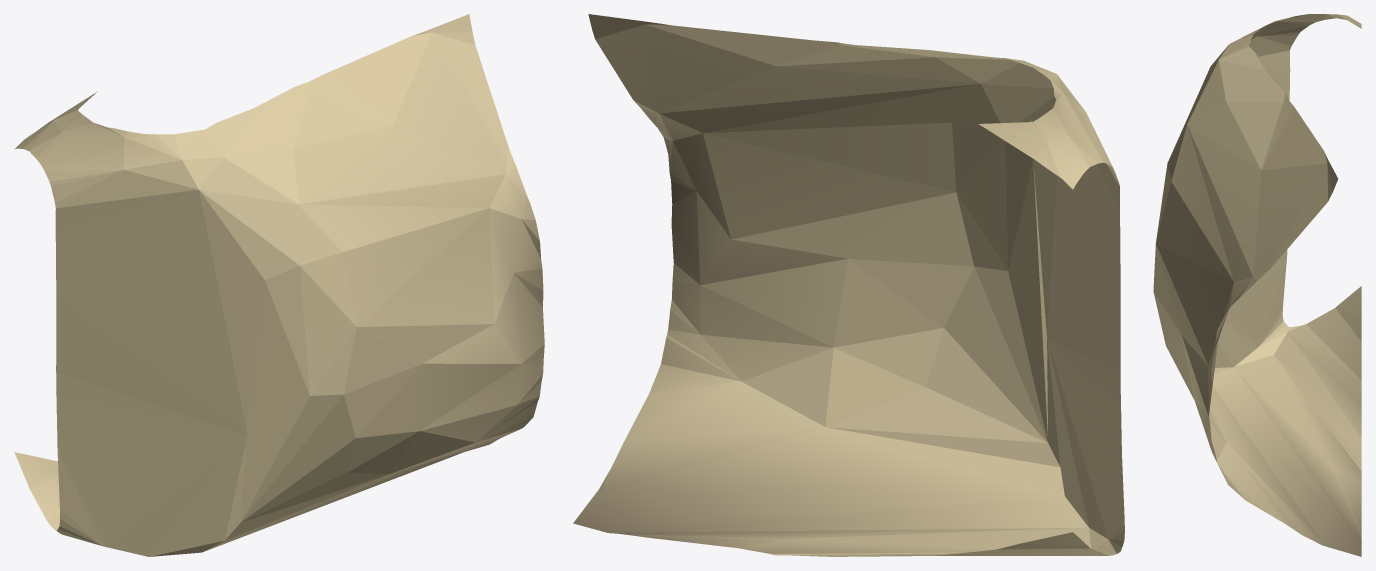
The model's file is bisect-3-3-10.gltf.
3 views of the same model, side by side, from view 1: azimuth 30°, elevation 25°; view 2: azimuth 150°, elevation 25°; view 3: azimuth 270°, elevation 25° (orthographic). The views are drawn at different scales.
Visible parts, largest first — view 1: bisect-3-3-10; view 2: bisect-3-3-10; view 3: bisect-3-3-10.
Part boxes in pixels (bbox=[...]): bisect-3-3-10: bbox=[14, 14, 544, 556]; bisect-3-3-10: bbox=[573, 14, 1124, 556]; bisect-3-3-10: bbox=[1153, 14, 1361, 556].
Size of the model in its own units: 20 by 19.09 by 9.5.
